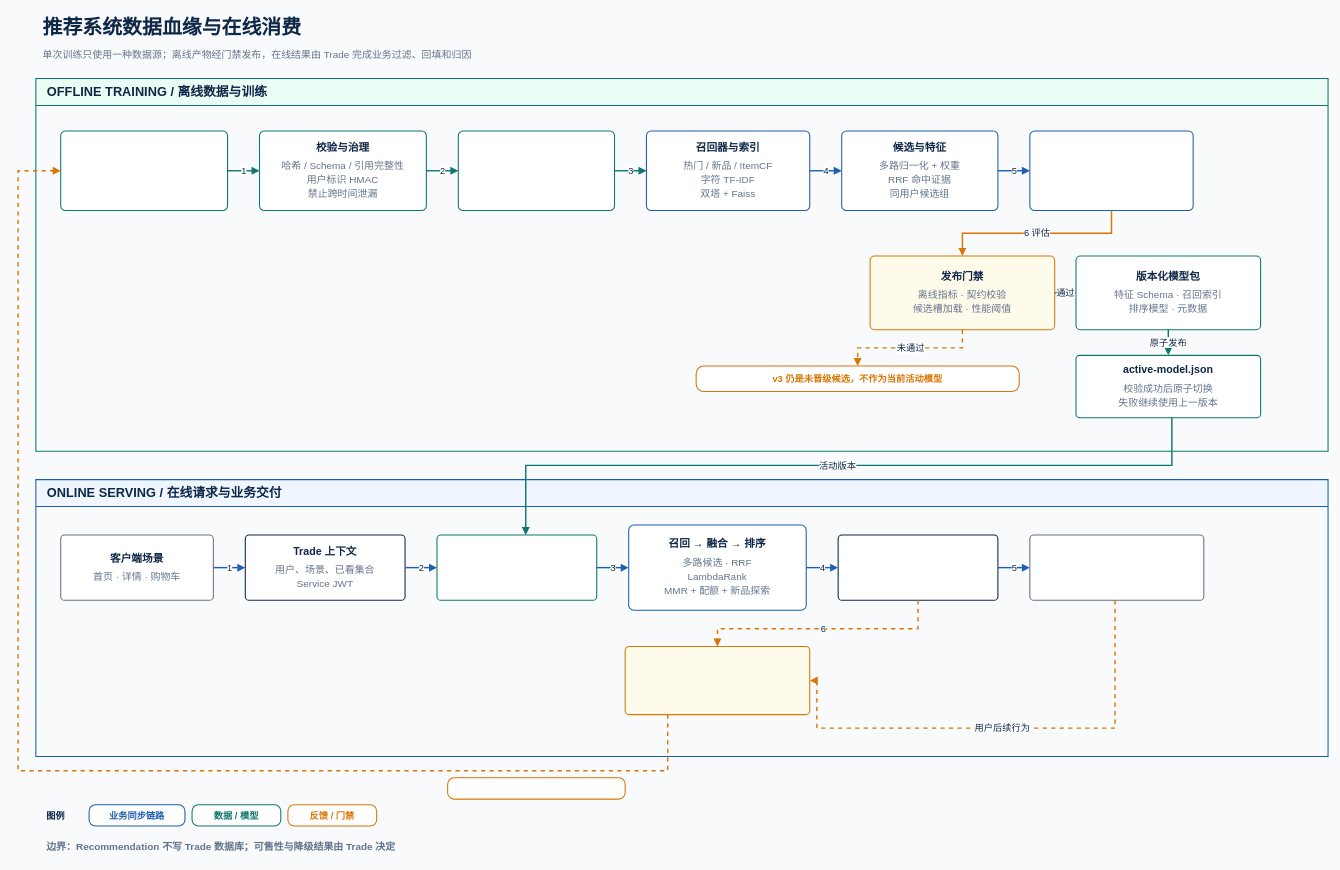
The diagram is 1340 pixels wide and 870 high, and some of its shapes have lost their labels. The shapes that lost their labels are listed below. From the top down, each one's centre as x and y in pixels, then its label:
the point at 144,170: 数据源（二选一） Trade 快照 JSONL + manifest 或迁移后的 legacy CSV
the point at 536,170: 时间切分 train · calibration feedback · test 按时间顺序隔离
the point at 1111,170: 学习排序 LightGBM LambdaRank v2：5 维当前兼容 v3：15 维候选
the point at 516,567: Recommendation Runtime 加载活动模型包 生成追踪版本
the point at 917,567: Trade 业务交付 可售过滤 · 去重 热门回填 · 曝光归因
the point at 1116,567: 有序可交易结果 items · model_version · trace
the point at 717,680: 反馈事件与商品快照 曝光 / 点击 / 加购 下单 / 支付 / 退款
the point at 536,788: 反馈进入下一轮训练快照
